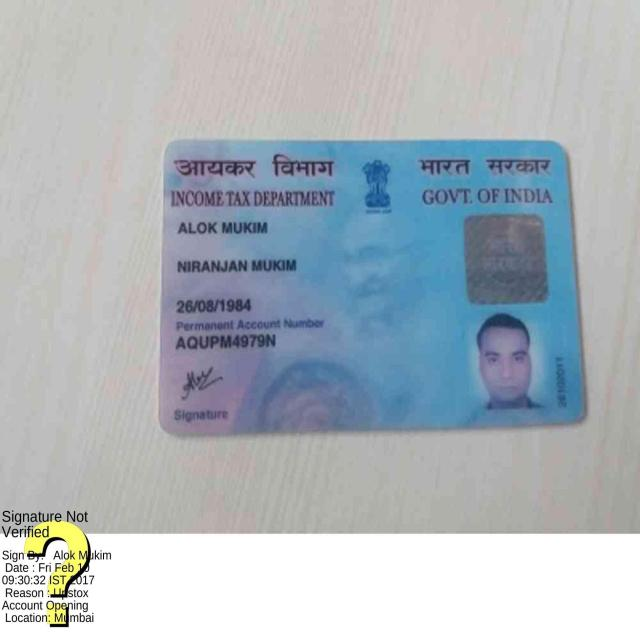pan_card: (162, 144, 582, 438)
